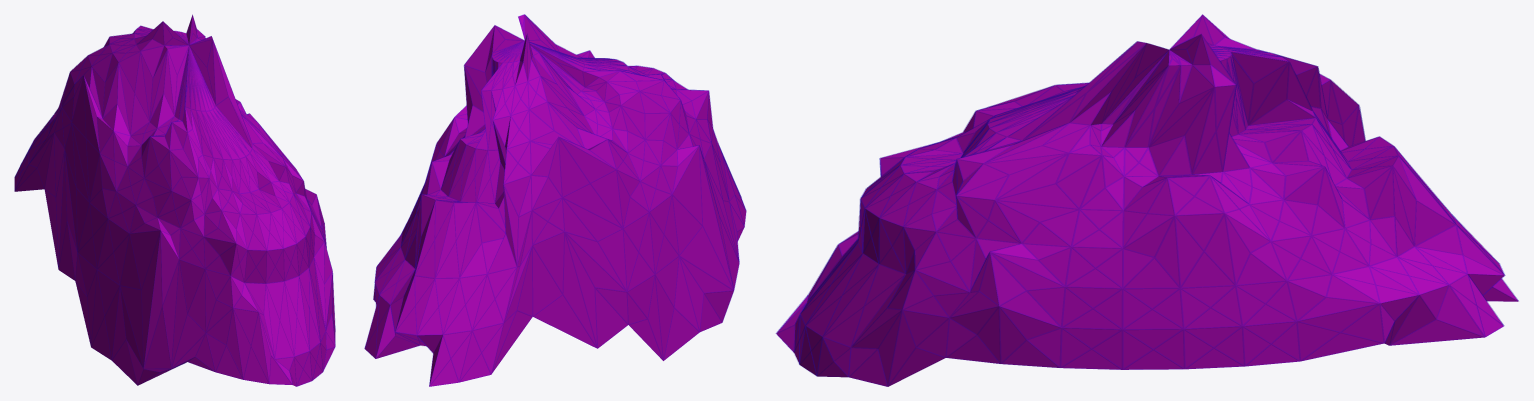
The model's file is skala.fbx.
3 views of the same model, side by side, from view 1: azimuth 30°, elevation 25°; view 2: azimuth 150°, elevation 25°; view 3: azimuth 270°, elevation 25° (orthographic). The views are drawn at different scales.
Visible parts, largest first — view 1: mountain.001; view 2: mountain.001; view 3: mountain.001.
Part boxes in pixels (left/top/right/bottom): mountain.001: left=14, top=14, right=335, bottom=386; mountain.001: left=364, top=14, right=746, bottom=386; mountain.001: left=776, top=14, right=1518, bottom=386.
Bounding box in the file's own units: 2191 × 3093 × 5286.
